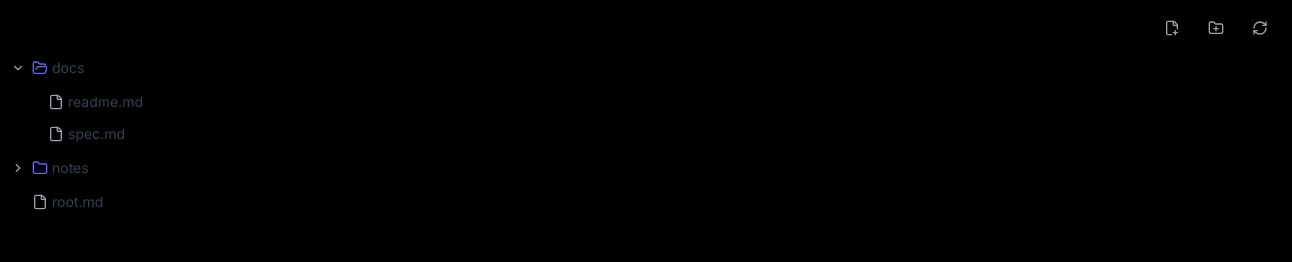
FileTree › context menu › opens context menu on right-click
Step 1. Right-click the text "readme.md" → (96, 102), box [48, 93, 143, 110]
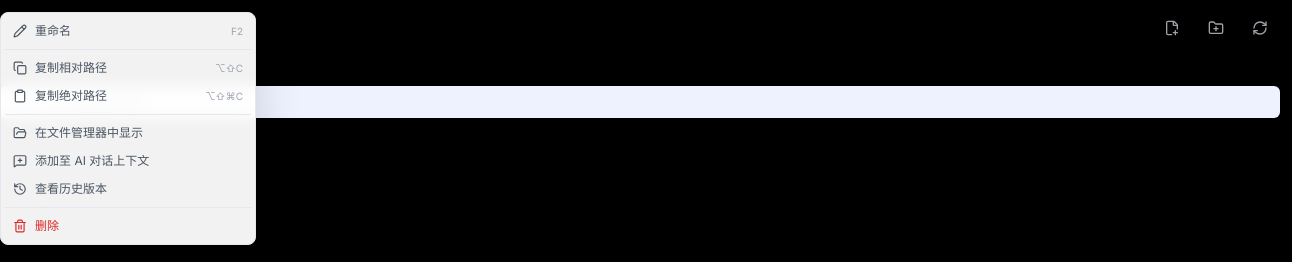
Expected: the menu is shown, [0, 12, 256, 245]
